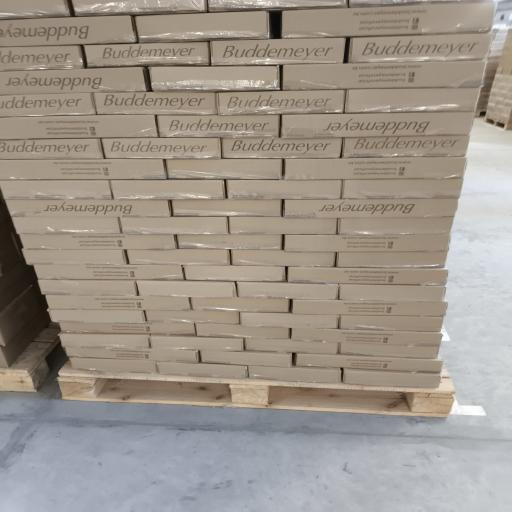pallet: (59, 363, 454, 417), (0, 327, 60, 391), (485, 117, 511, 130), (475, 111, 486, 117)
